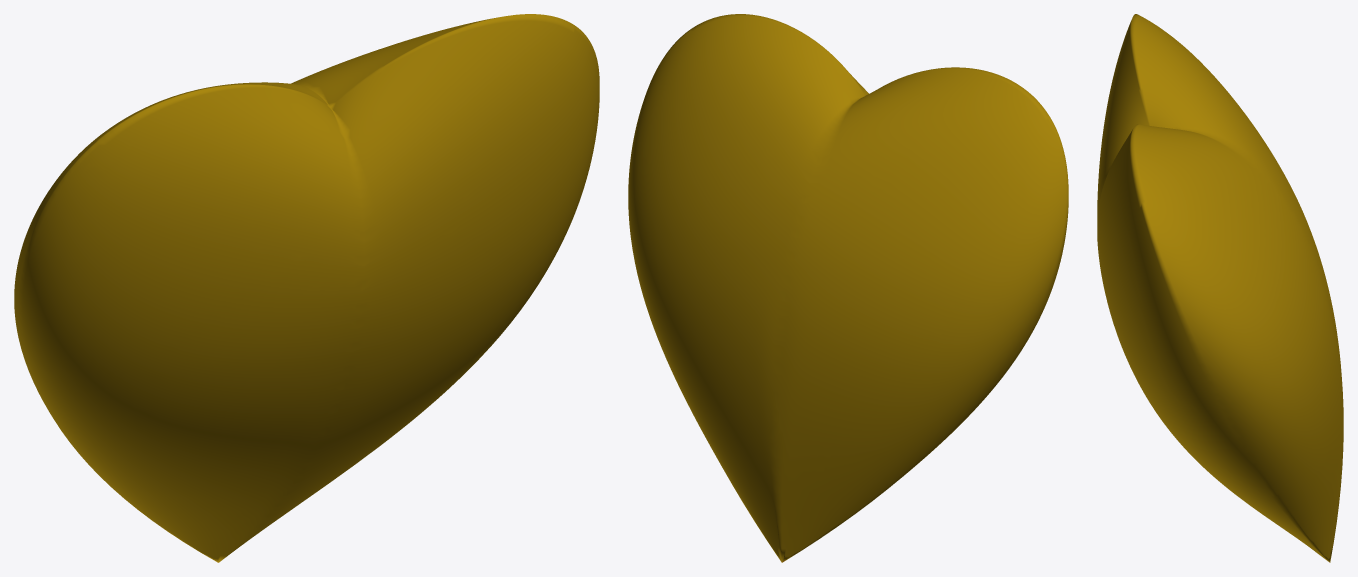
Rendered from לבבה.glb.
3 views of the same model, side by side, from view 1: azimuth 30°, elevation 25°; view 2: azimuth 150°, elevation 25°; view 3: azimuth 270°, elevation 25° (orthographic). The views are drawn at different scales.
Visible parts, largest first — view 1: node_id26; view 2: node_id26; view 3: node_id26.
Boxes of the visible parts, x1,y1,x2,y2 form: node_id26: (14,14,599,562); node_id26: (628,14,1068,562); node_id26: (1097,14,1343,562).
Bounding box in the file's own units: 0.3053 × 0.3071 × 0.1435.
1 material, 1 textured.
